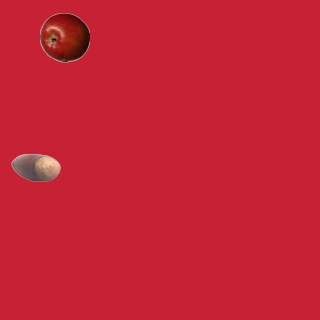Apple Braeburn: (39, 12, 89, 62)
Hazelnut: (10, 142, 60, 192)
